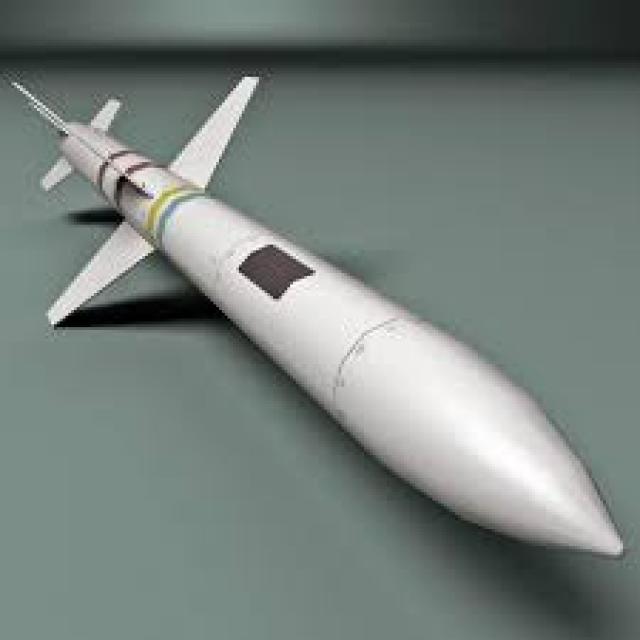missile: (12, 83, 632, 570)
